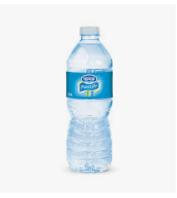plastic_bottle: (60, 24, 119, 176)
